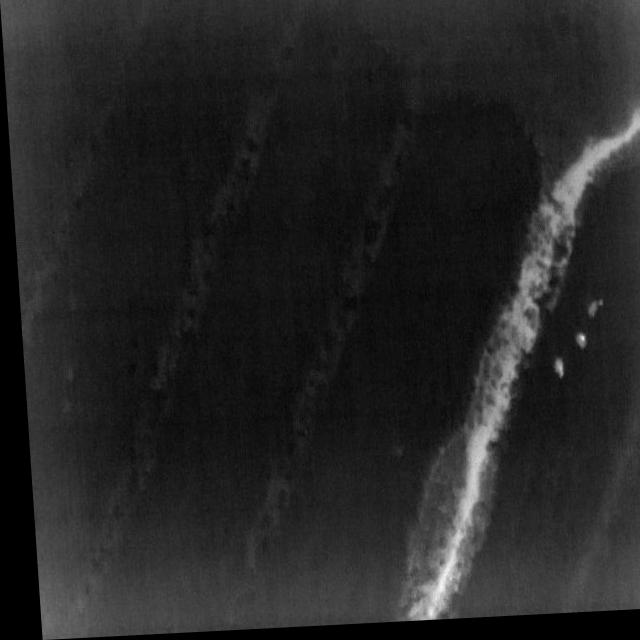deer: (581, 305, 600, 326), (569, 337, 583, 358), (547, 363, 559, 387)
